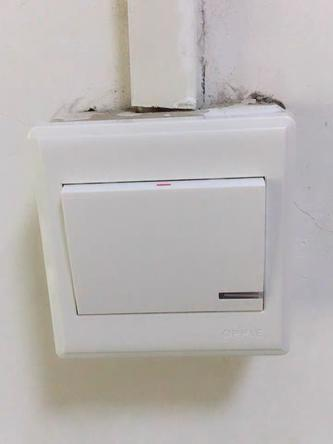switch: (46, 156, 281, 322)
